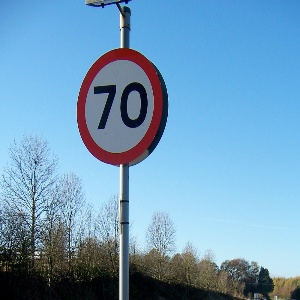70 speed: (77, 48, 164, 165)
